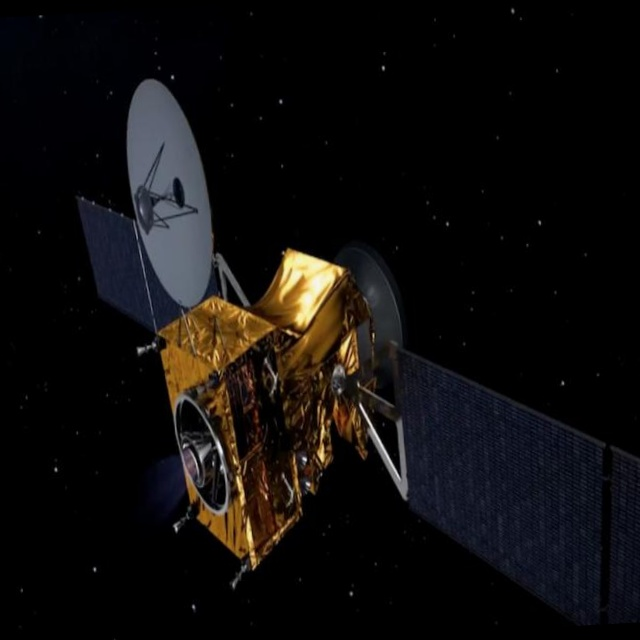satellite: (60, 40, 640, 640)
